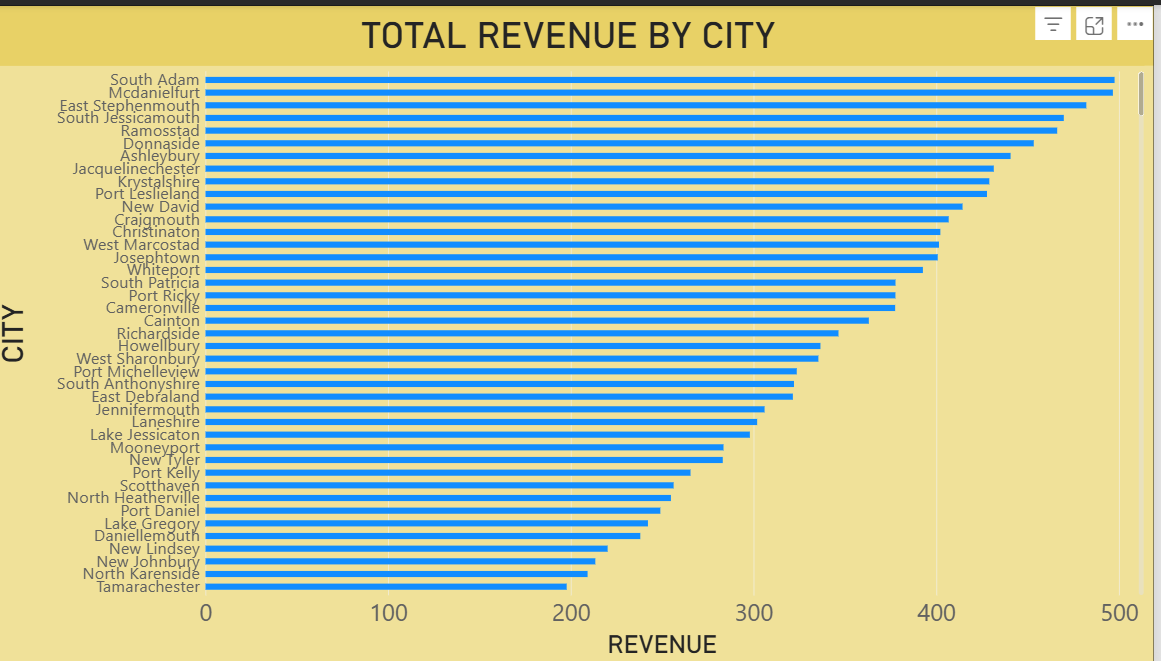

This screenshot's page, from the dashboard's own definition file:
{"tool":"powerbi","page":{"name":"Page 3","canvas":[1920,1080],"ordinal":3},"visuals":[{"type":"clusteredBarChart","title":"TOTAL REVENUE BY CITY","fields":{"Category":["city_dataset2.city_name"],"Y":["Sum(city_dataset2.avg_fare)"]},"box":[11.3,0,1907.7,1080],"z":0}]}

Visuals, with their boxes in screenshot pixels (x1, y1, x2, y2), scaled from the page's 1920x1080 canvas onto the 1161x661 screenshot:
"TOTAL REVENUE BY CITY" clusteredBarChart: BBox(7, 0, 1160, 660)
